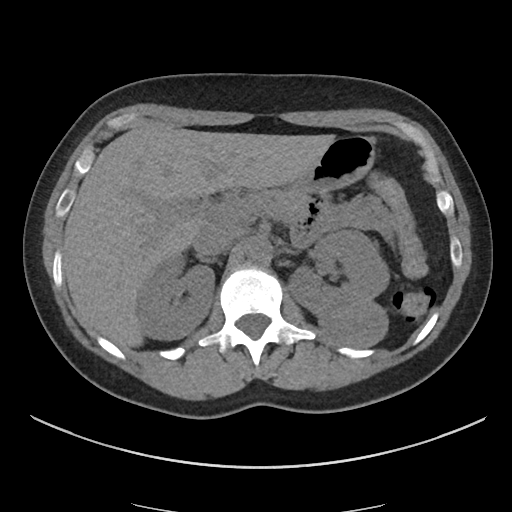Lesion: (319, 294, 392, 361)
